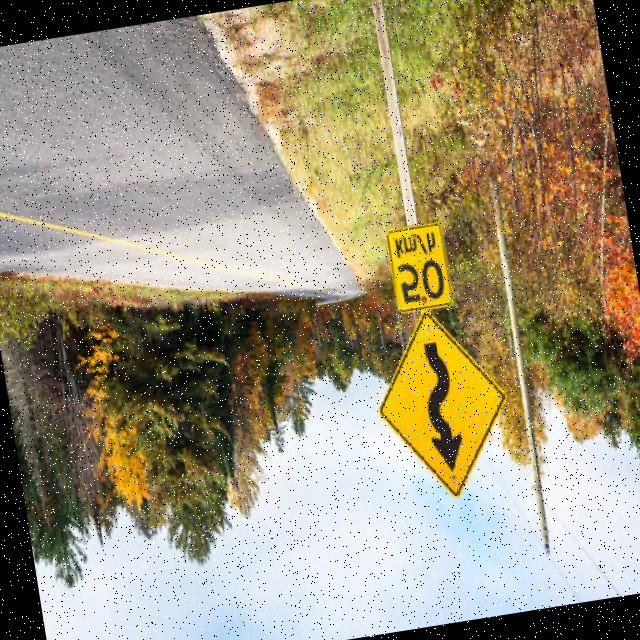left_sharp_curve: (352, 292, 538, 517)
